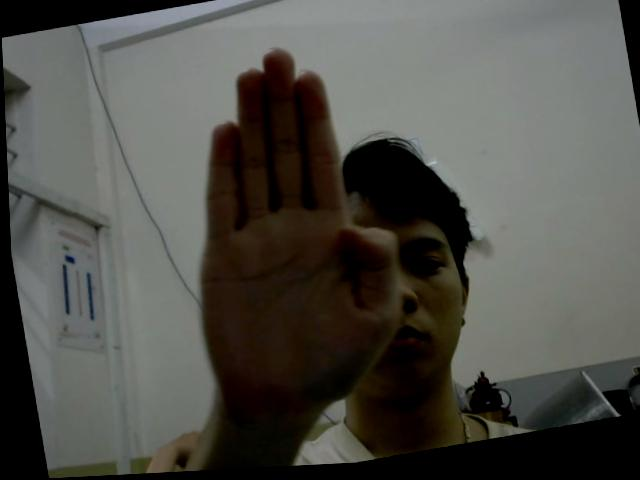B: (155, 34, 418, 425)
